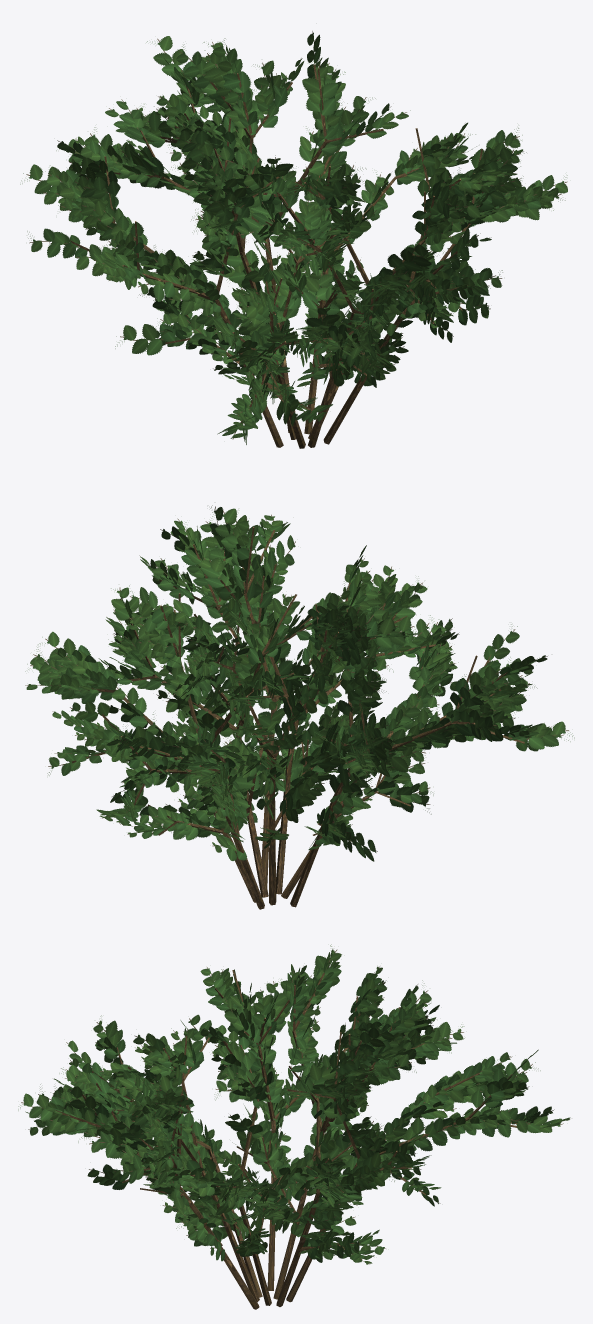
File: alder_thicket_v01_LOD1.glb
3 renders of one model, top to bottom at view 1: azimuth 30°, elevation 25°; view 2: azimuth 150°, elevation 25°; view 3: azimuth 270°, elevation 25°, orthographic. The views are drawn at different scales.
Visible parts, largest first — view 1: alder_thicket_v01_LOD1; view 2: alder_thicket_v01_LOD1; view 3: alder_thicket_v01_LOD1.
Boxes of the visible parts, x1=… form: alder_thicket_v01_LOD1: x1=20, y1=31, x2=567, y2=448; alder_thicket_v01_LOD1: x1=25, y1=505, x2=574, y2=909; alder_thicket_v01_LOD1: x1=18, y1=944, x2=570, y2=1309.
Bounding box in the file's own units: 4.59 × 3.4 × 5.25.
Materials: 2 (2 with a texture image).
